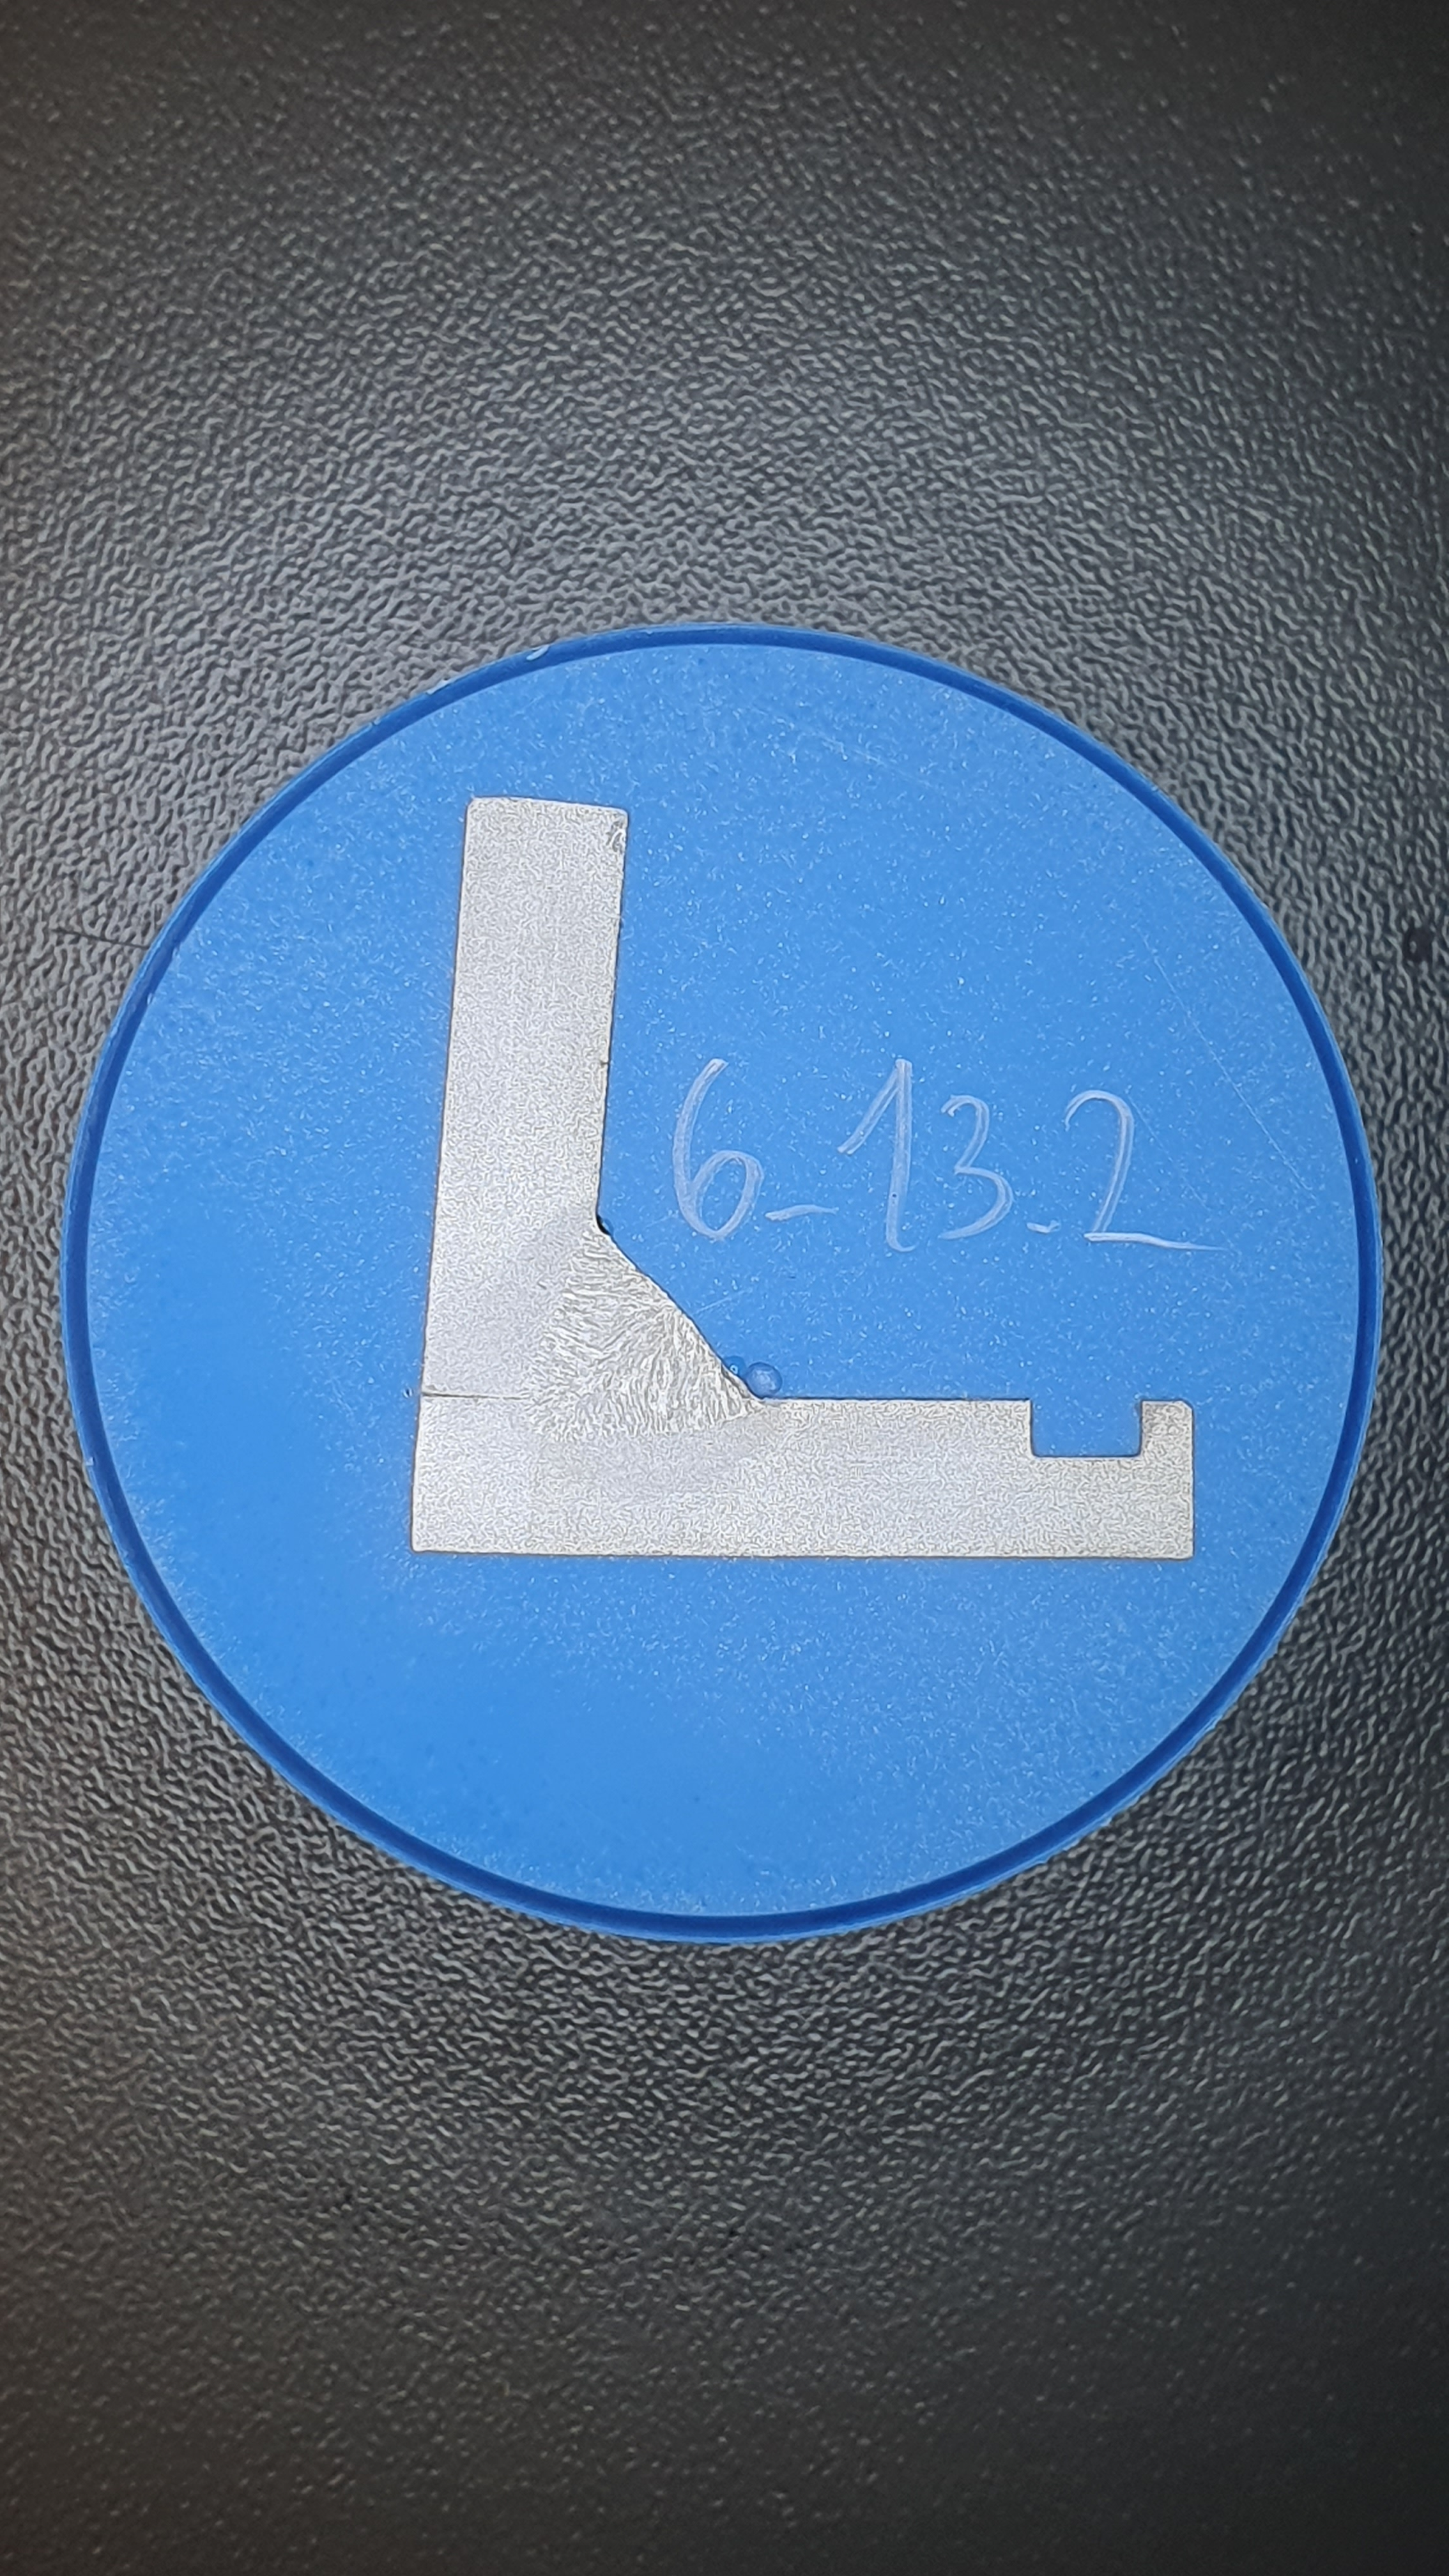Fusion: (513, 1219, 766, 1444)
Hintergrund: (87, 640, 1359, 1909)
Metall: (410, 796, 1194, 1555)
Nebenbereich: (449, 1200, 791, 1506)
